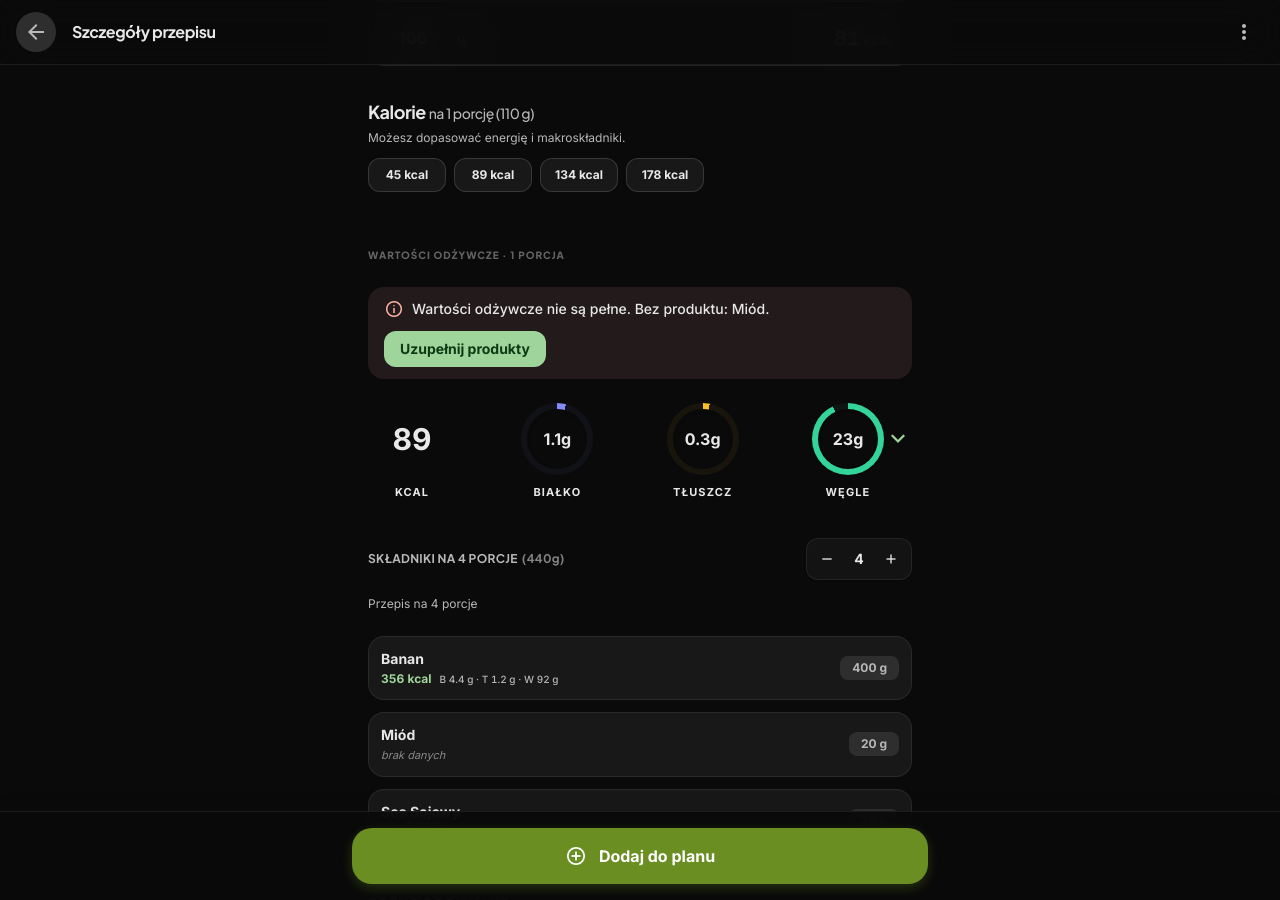
Test: RecipeDetails loading › sums nutrients of the ingredients that have them and names the ones that do not
(page scrolled)
Step 1. Click the button "23g Węgle" → (858, 450), box [812,403,904,498]
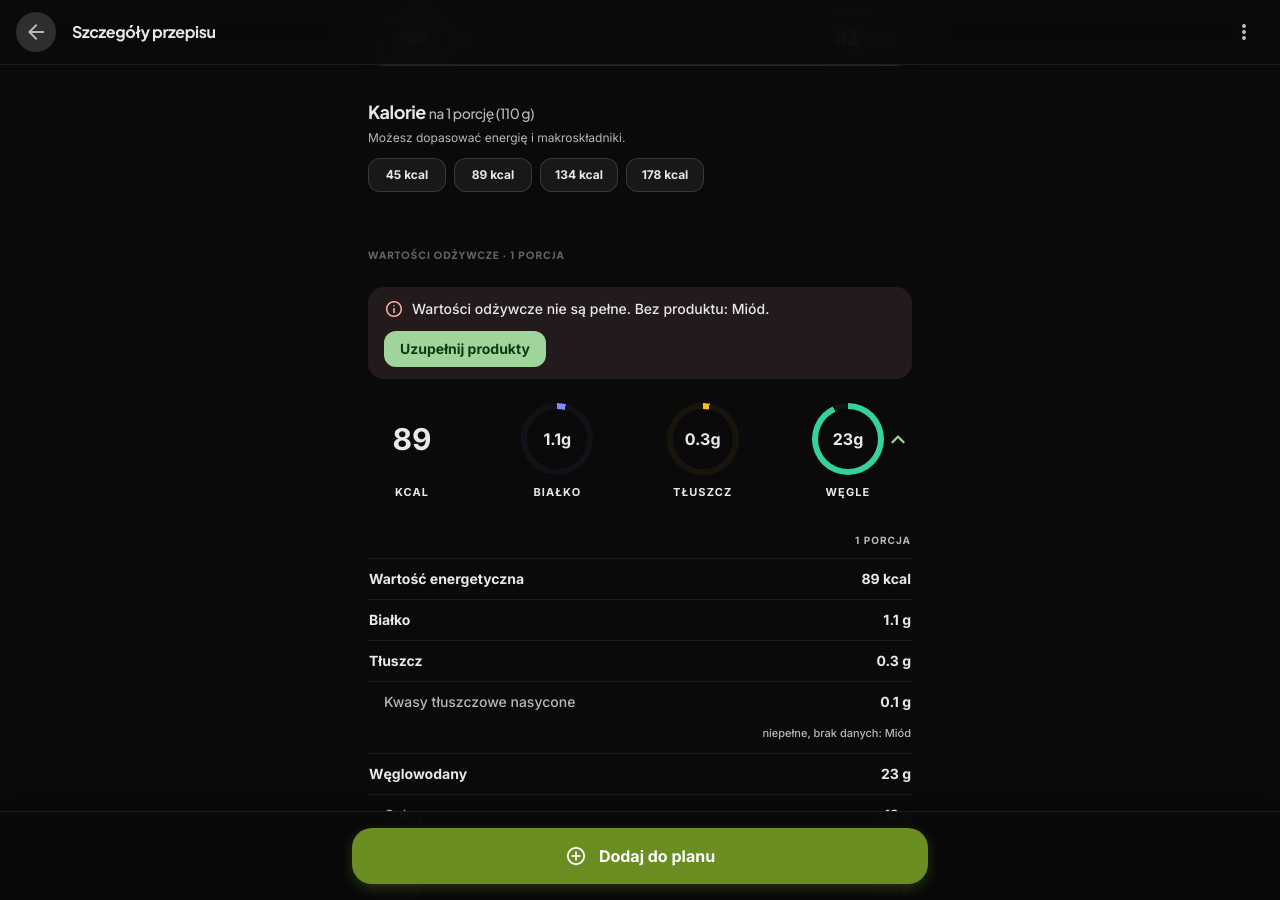
Now the cell "12 g" is shown, box [783,794,912,835]
